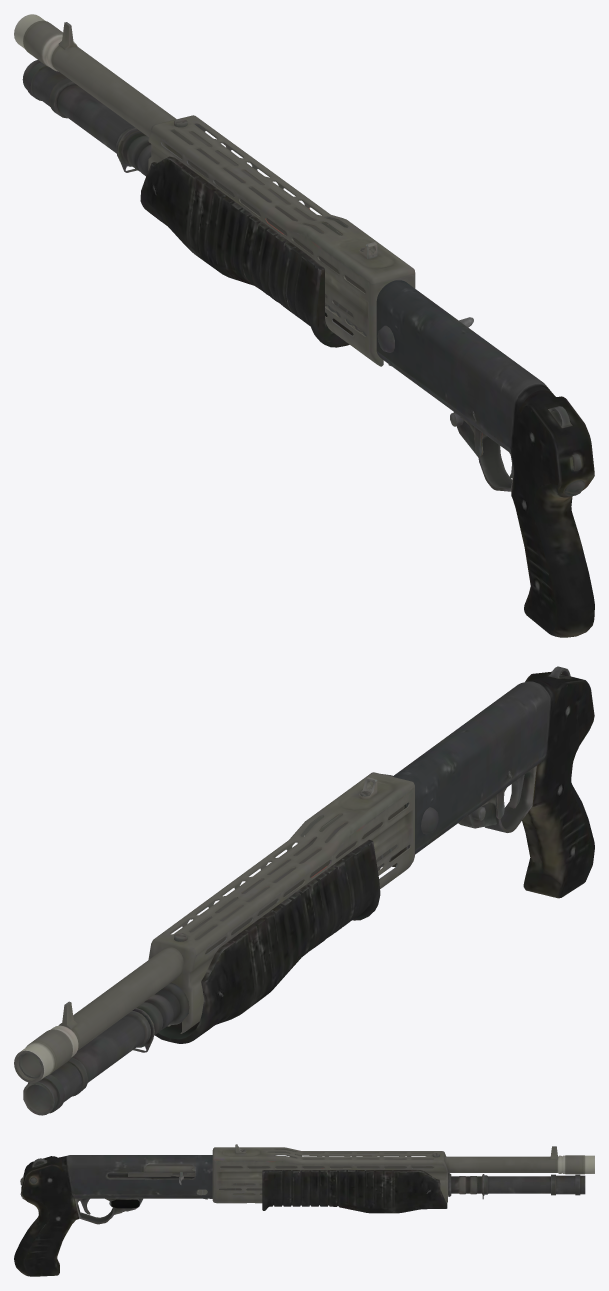
The model's file is spas12-HDSVEGUC.glb.
3 renders of one model, top to bottom at view 1: azimuth 30°, elevation 25°; view 2: azimuth 150°, elevation 25°; view 3: azimuth 270°, elevation 25°, orthographic. The views are drawn at different scales.
Visible parts, largest first — view 1: body, pump; view 2: body, pump; view 3: body, pump.
Boxes of the visible parts, left/top/right/bottom form: body: left=14, top=14, right=594, bottom=637; pump: left=140, top=156, right=473, bottom=347; body: left=14, top=666, right=594, bottom=1115; pump: left=155, top=774, right=392, bottom=1043; body: left=14, top=1144, right=594, bottom=1276; pump: left=128, top=1164, right=447, bottom=1213.
Size of the model in its own units: 0.0713 by 0.1984 by 0.82.
1 material, 1 textured.
